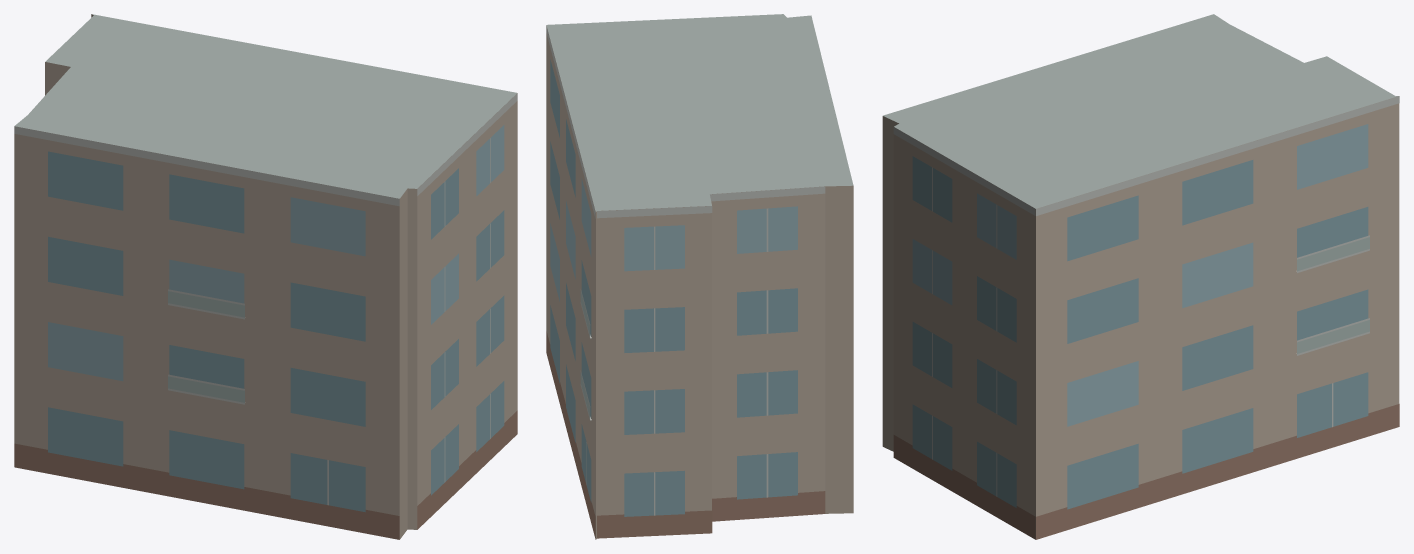
Rendered from survey-upis-32822999.glb.
3 renders of one model, left to right at view 1: azimuth 30°, elevation 25°; view 2: azimuth 150°, elevation 25°; view 3: azimuth 270°, elevation 25°, orthographic. The views are drawn at different scales.
Visible parts, largest first — view 1: survey-upis-32822999.tmp; view 2: survey-upis-32822999.tmp; view 3: survey-upis-32822999.tmp.
Part boxes in pixels (<box>): survey-upis-32822999.tmp: <box>14,14,517,539</box>; survey-upis-32822999.tmp: <box>546,14,853,539</box>; survey-upis-32822999.tmp: <box>882,14,1399,539</box>.
Size of the model in its own units: 13.86 by 10.97 by 15.54.
